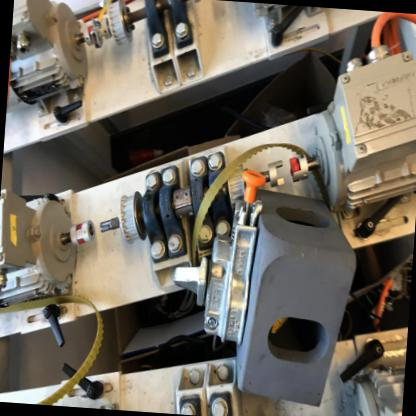CornerCasting: (232, 188, 364, 408)
Twistlock: (164, 152, 269, 355)
